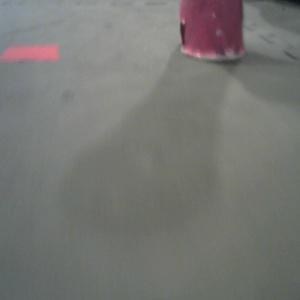right: (178, 1, 245, 60)
